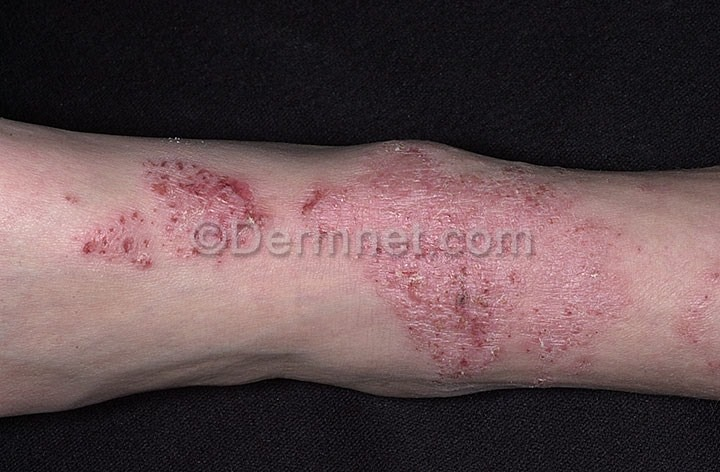Eczema: (300, 146, 637, 388), (60, 145, 275, 282), (675, 243, 720, 378)
